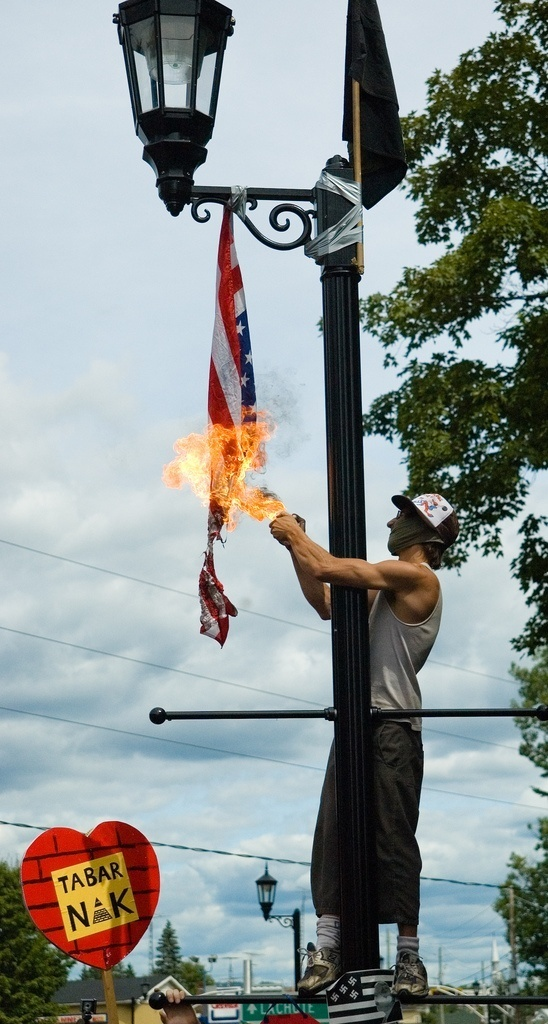fire: (163, 407, 286, 534)
